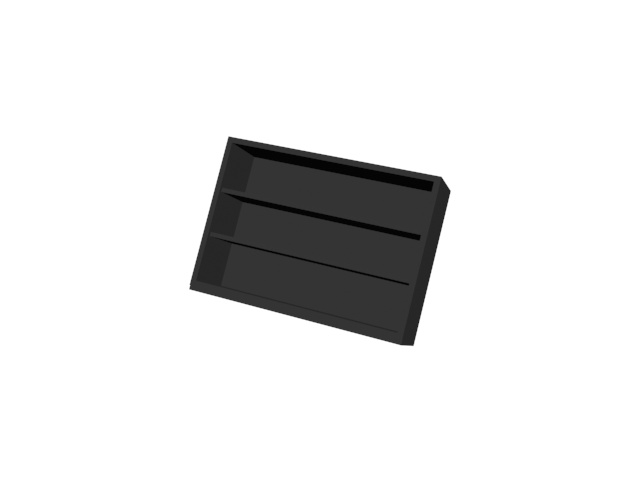bookcase: (185, 137, 456, 352)
